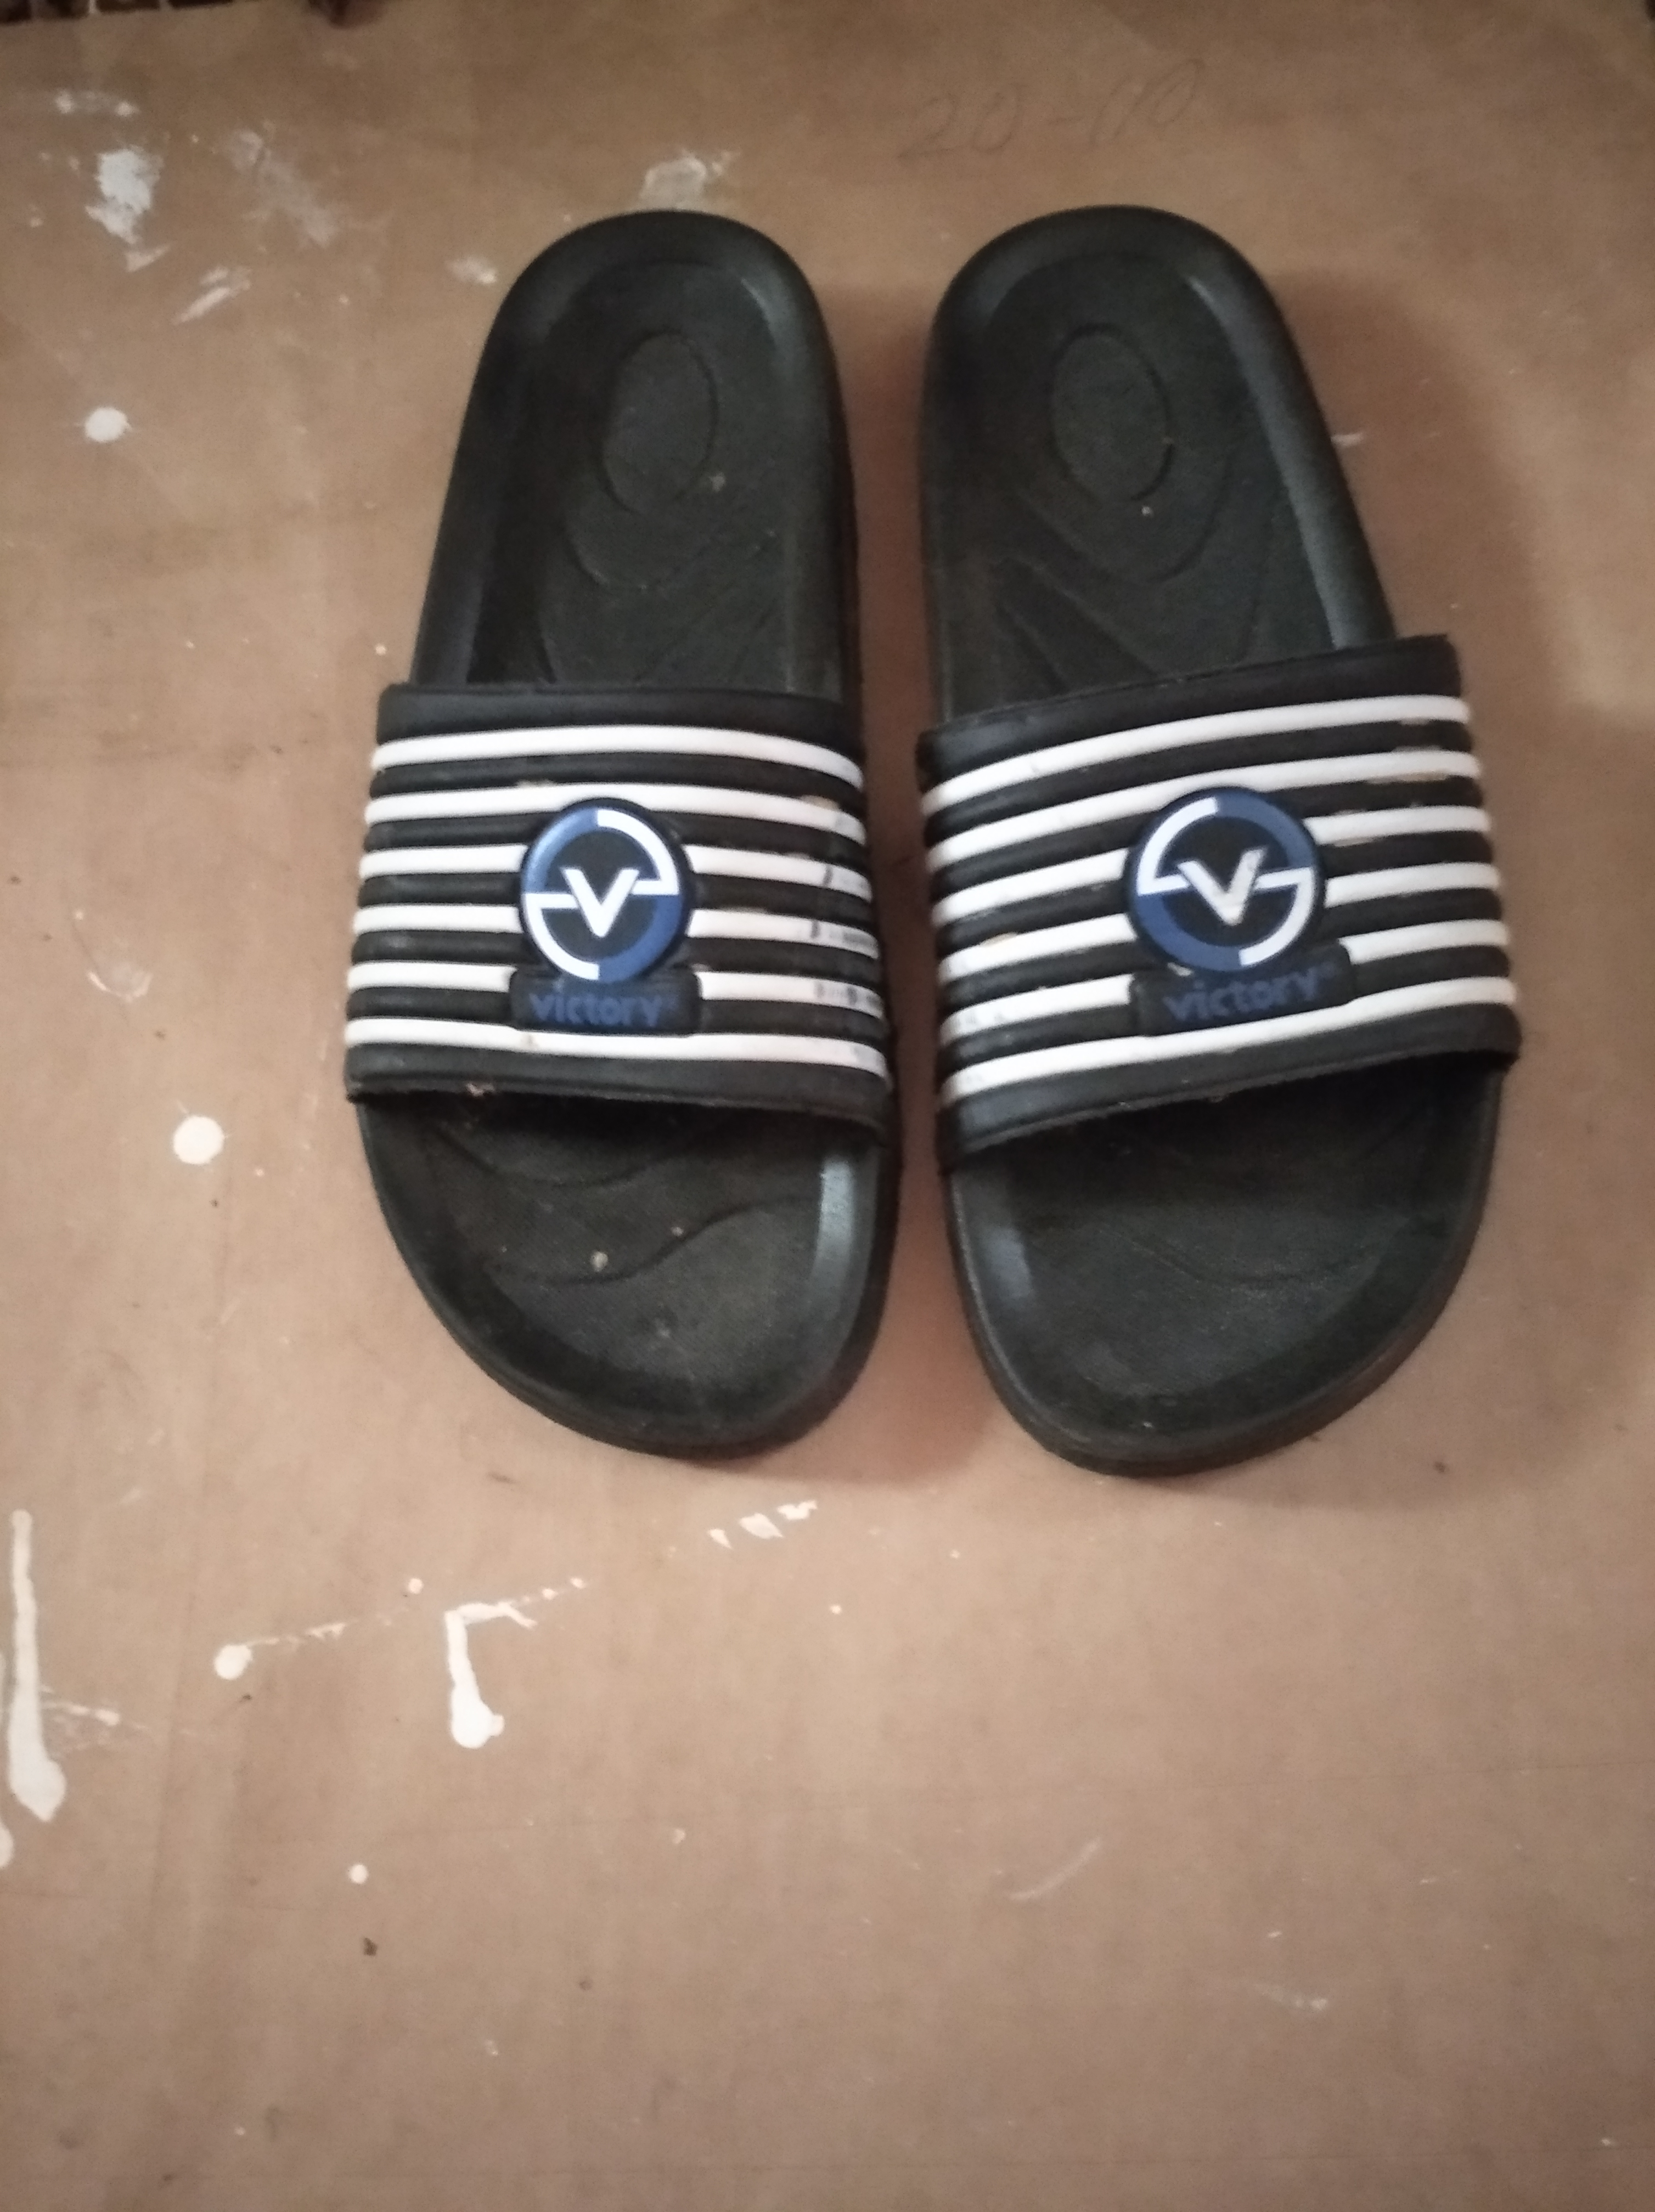clothes: (901, 202, 1549, 1489), (336, 202, 913, 1475)
